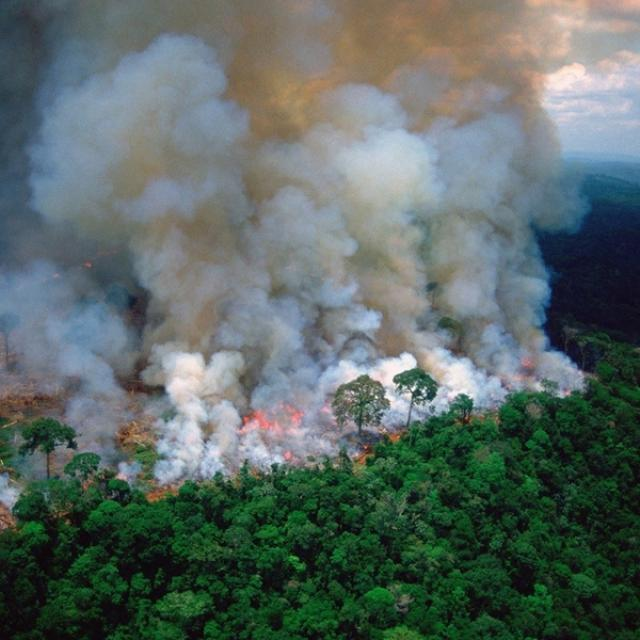Smoke: (245, 0, 585, 217), (242, 226, 586, 408), (0, 2, 241, 250)
